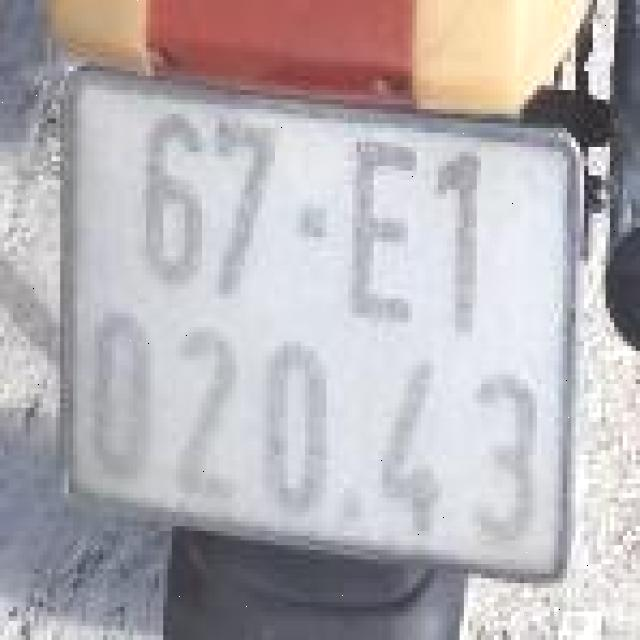0: (256, 316, 346, 514), (71, 306, 157, 510)
1: (432, 121, 496, 329)
2: (165, 310, 243, 505)
3: (462, 353, 552, 557)
4: (361, 346, 442, 536)
6: (131, 102, 217, 306)
7: (204, 119, 281, 308)
E: (331, 126, 421, 330)
